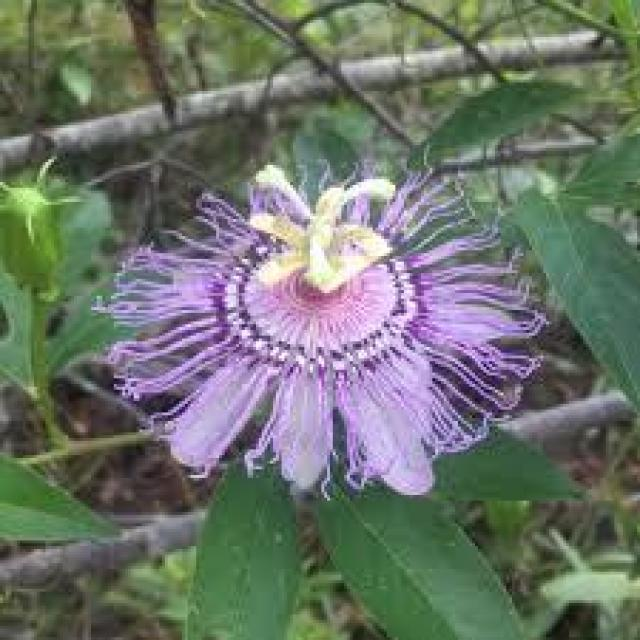organic waste: (75, 158, 556, 491)
